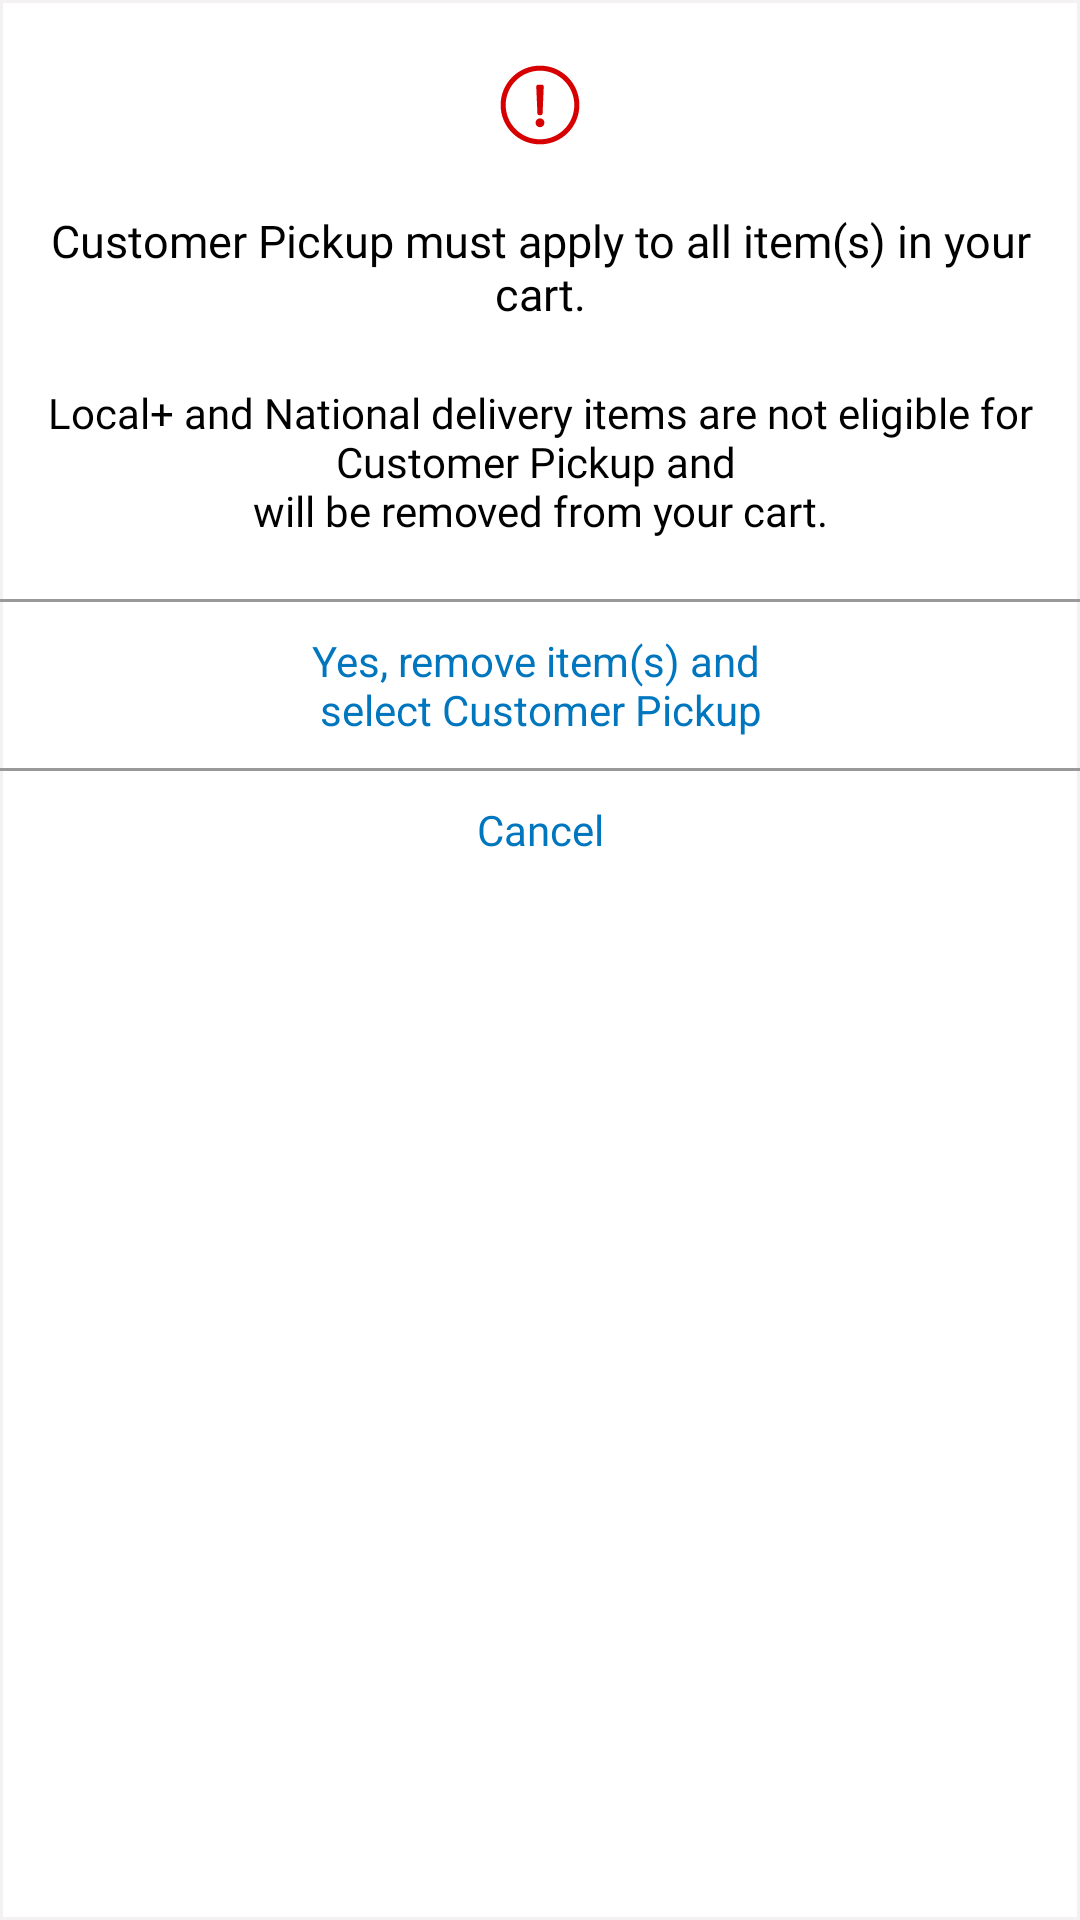

Screen size 1080 x 1920. Icon name, then its box in pixels as rect(x1, y1, x2, y2):
alert: rect(500, 65, 580, 145)
